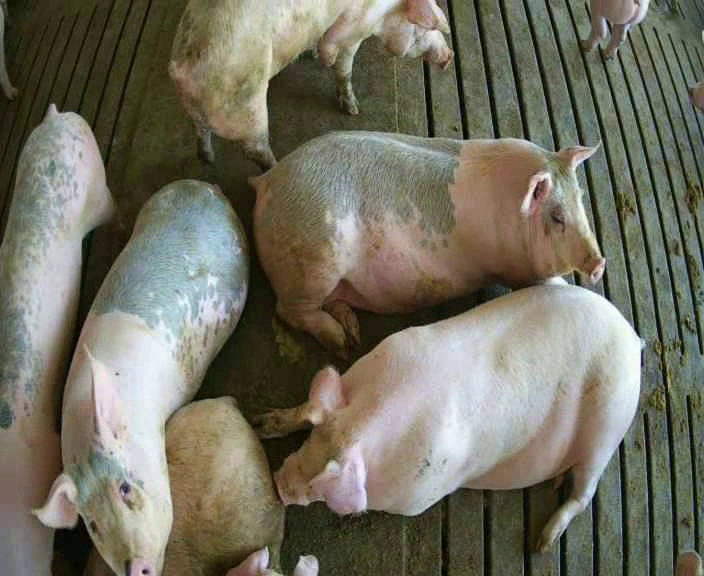pig: (259, 278, 645, 550), (34, 181, 247, 574), (252, 132, 604, 358), (0, 105, 120, 574), (169, 2, 452, 168)
